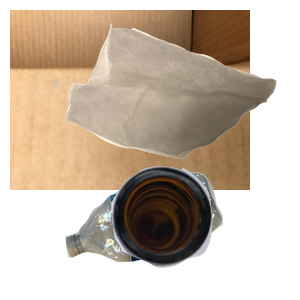cardboard: (10, 10, 250, 190)
glass: (109, 164, 300, 300)
plastic: (63, 170, 278, 300)
trash: (63, 21, 300, 172)
